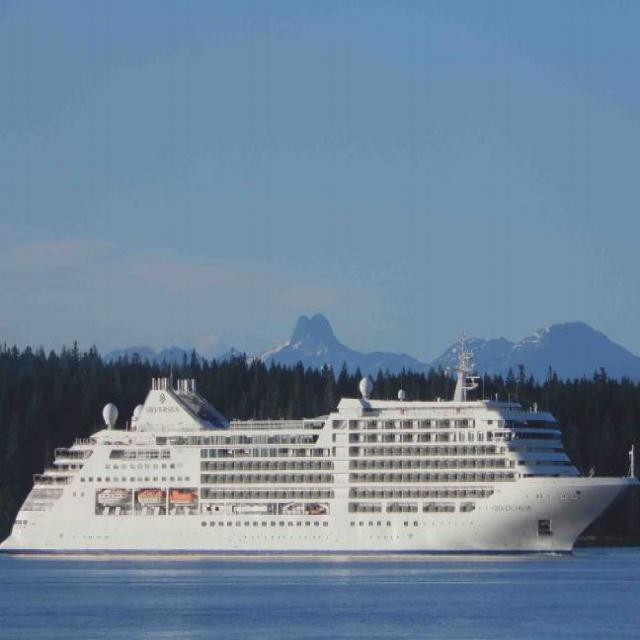cruises: (1, 330, 640, 573)
